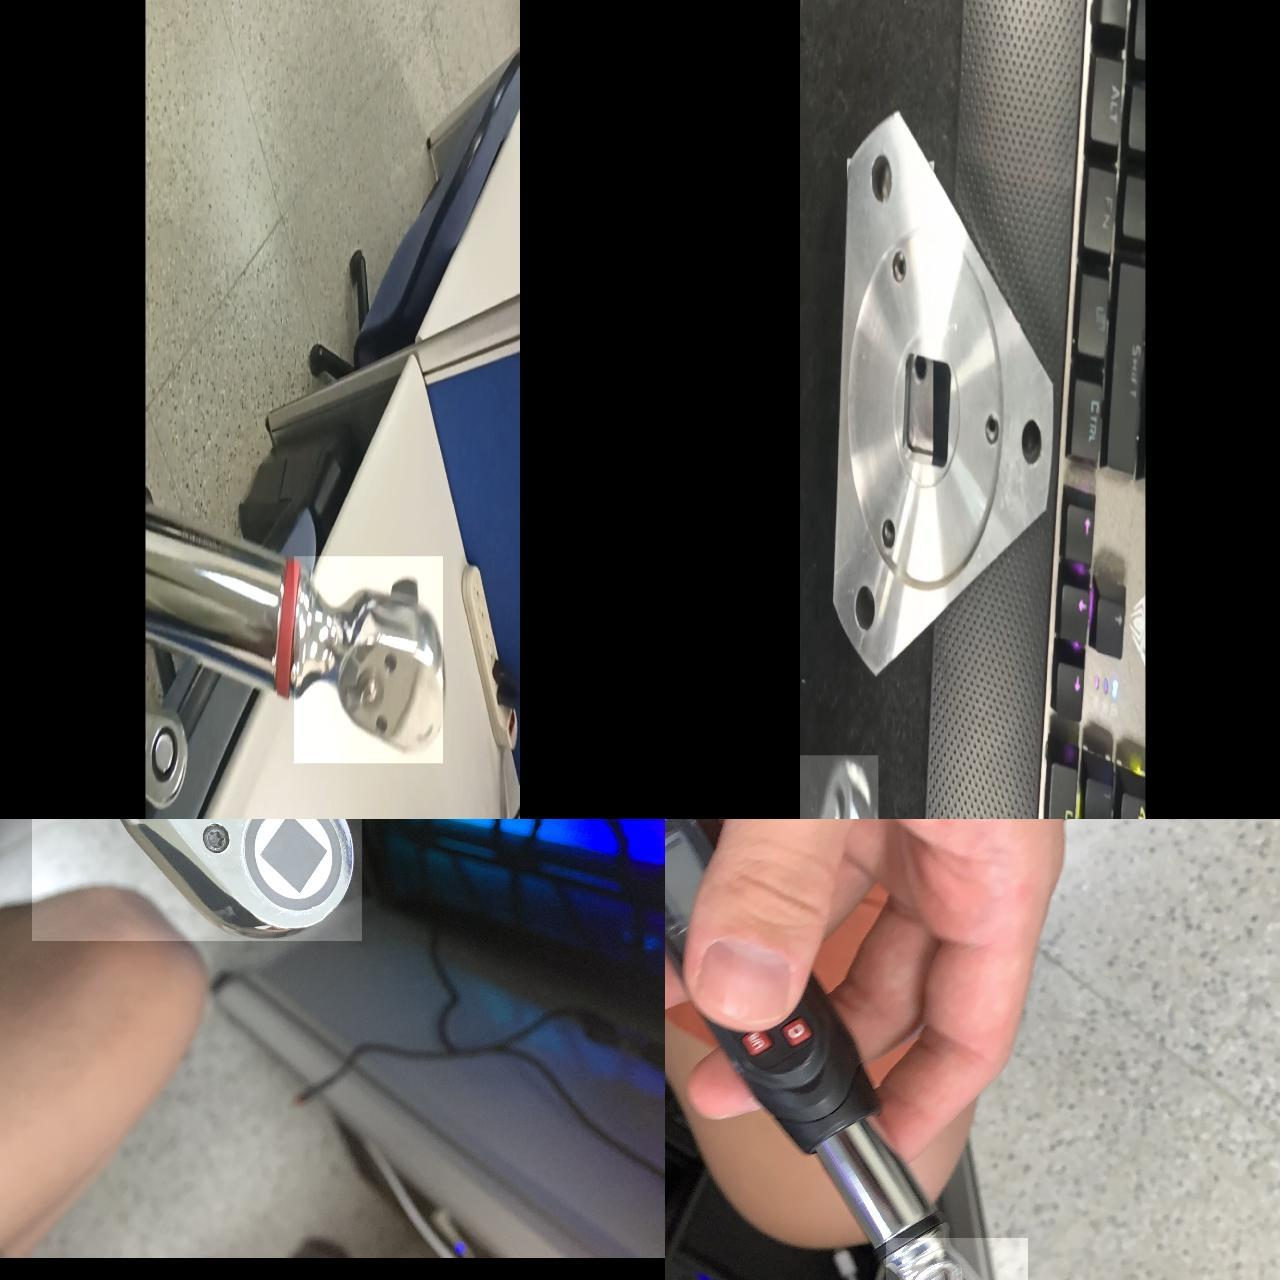Tool: (32, 819, 362, 940), (294, 555, 443, 762), (886, 1237, 1028, 1280), (800, 754, 879, 819)
